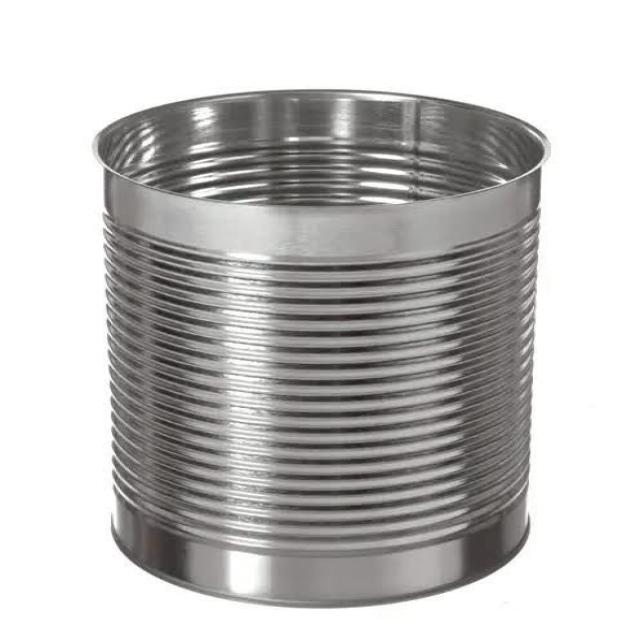can: (92, 88, 534, 601)
